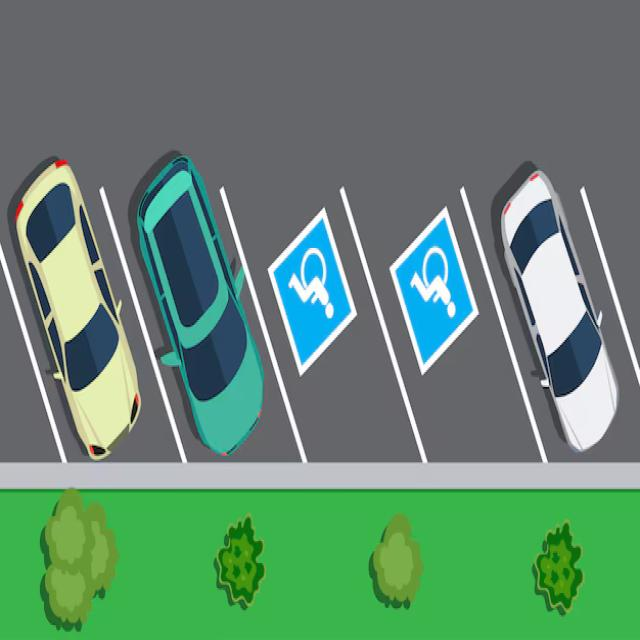discapacitados: (350, 189, 535, 460), (230, 190, 413, 455)
ocupado: (108, 164, 288, 455), (467, 175, 637, 466), (10, 157, 166, 458)
